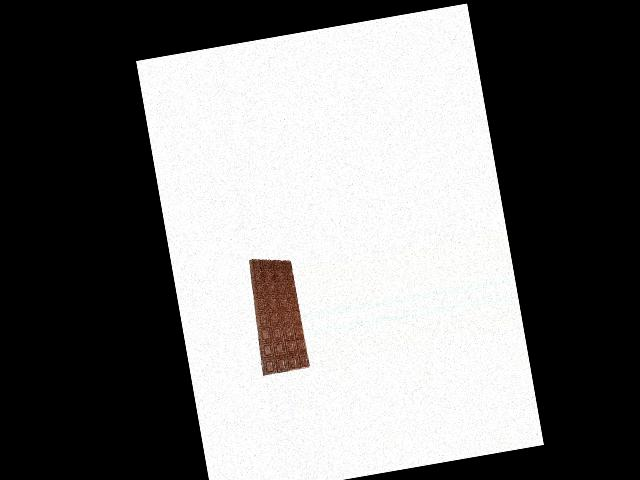chocolate: (244, 251, 310, 376)
